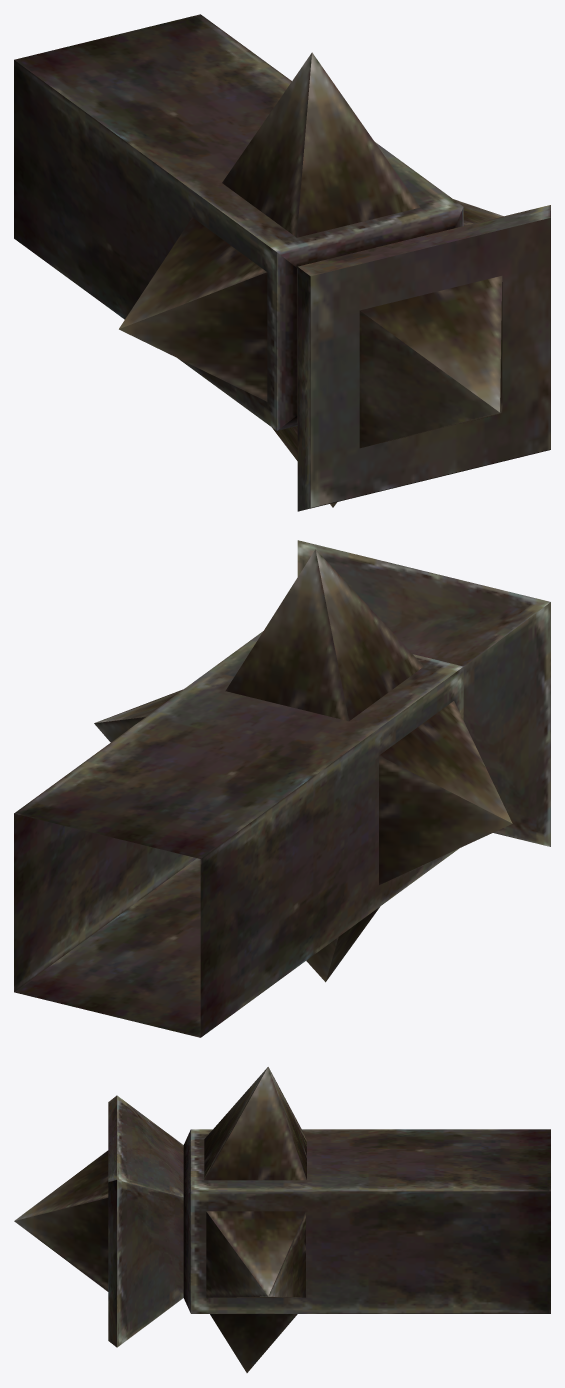
The model's file is juqing_fuben_292_langan_01a.obj.
3 views of the same model, one above another, from view 1: azimuth 30°, elevation 25°; view 2: azimuth 150°, elevation 25°; view 3: azimuth 270°, elevation 25° (orthographic). The views are drawn at different scales.
Parts seen in each view (by area): view 1: juqing_fuben_292_langan_01b; view 2: juqing_fuben_292_langan_01b; view 3: juqing_fuben_292_langan_01b.
Boxes of the visible parts, x1,y1,x2,y2 form: juqing_fuben_292_langan_01b: (14,14,550,511); juqing_fuben_292_langan_01b: (14,540,550,1037); juqing_fuben_292_langan_01b: (14,1067,550,1372).
Size of the model in its own units: 40.86 by 41.75 by 66.57.
1 material, 1 textured.
